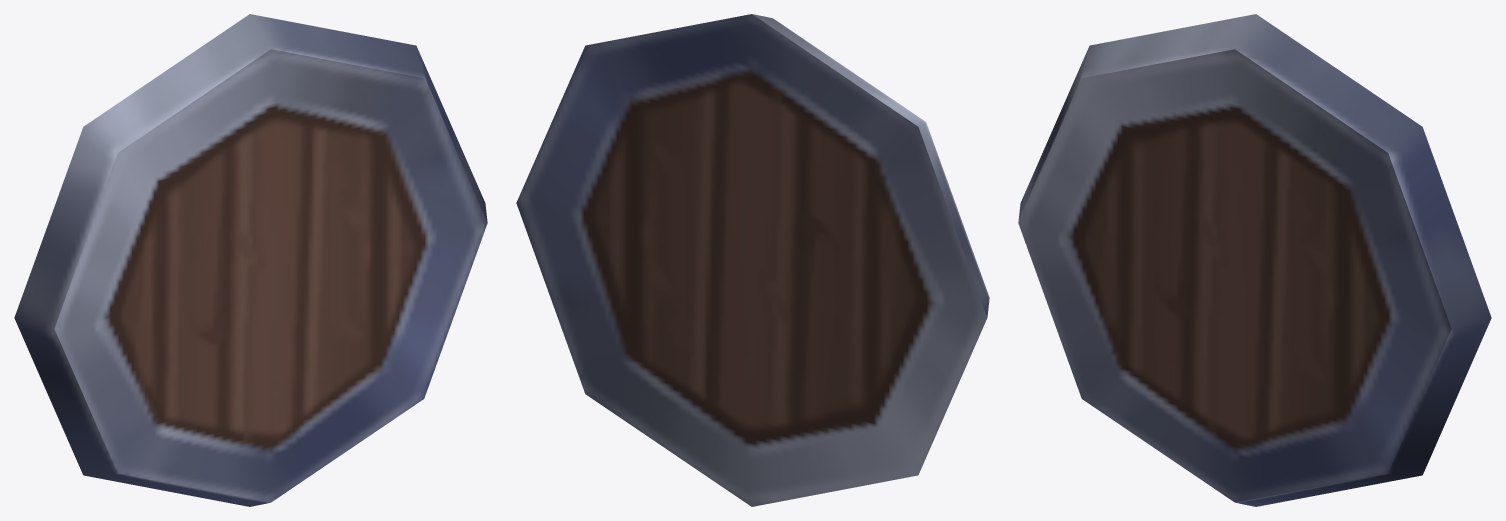
Rendered from zhucheng_dunpai_1.FBX.
The picture shows the model from 3 angles, left to right: view 1: azimuth 30°, elevation 25°; view 2: azimuth 150°, elevation 25°; view 3: azimuth 330°, elevation 25°; orthographic projection.
Visible parts, largest first — view 1: zhucheng_dunpai_1; view 2: zhucheng_dunpai_1; view 3: zhucheng_dunpai_1.
Boxes of the visible parts, box(x1,y1,x2,y2) form: zhucheng_dunpai_1: box(14, 14, 487, 506); zhucheng_dunpai_1: box(516, 14, 989, 506); zhucheng_dunpai_1: box(1018, 14, 1491, 506).
Bounding box in the file's own units: 105 × 105 × 8.13.
